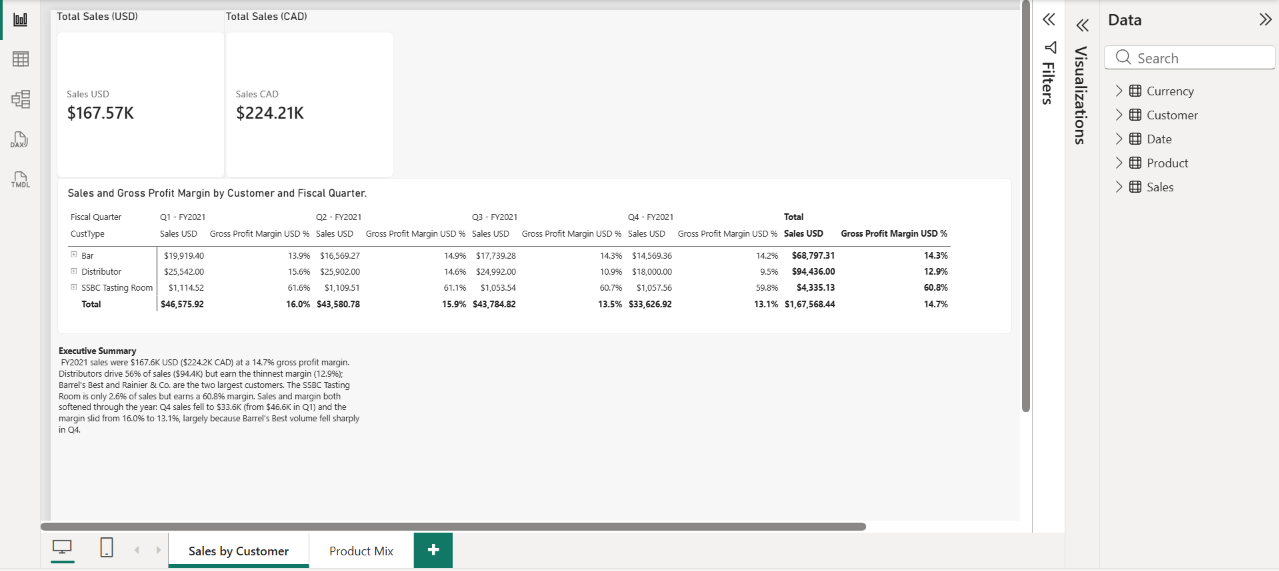

The dashboard page shown, as its layout file describes it:
{"tool":"powerbi","page":{"name":"Sales by Customer","canvas":[1920,1080],"ordinal":0},"visuals":[{"type":"cardVisual","title":"Total Sales (USD)","fields":{"Data":["Sales.Sales USD"]},"box":[10,0,280,280],"z":0},{"type":"cardVisual","title":"Total Sales (CAD)","fields":{"Data":["Sales.Sales CAD"]},"box":[292,0,280,280],"z":1},{"type":"pivotTable","title":"Sales and Gross Profit Margin by Customer and Fiscal Quarter.","fields":{"Columns":["Date.Fiscal Quarter"],"Rows":["Customer.CustType","Customer.Customer"],"Values":["Sales.Sales USD","Sales.Gross Profit Margin USD %"]},"box":[12,280,1590,260],"z":2},{"type":"textbox","box":[1056,0,280,280],"z":3},{"type":"textbox","box":[13.3,558.3,515,260],"z":4}]}

Visuals, with their boxes on the page's 1920x1080 design canvas (x1, y1, x2, y2). These are canvas units, not pixel positions in the 1279x571 screenshot, which may show the page scaled, cropped or inside an application window:
"Total Sales (USD)" cardVisual: Rect(10, 0, 290, 280)
"Total Sales (CAD)" cardVisual: Rect(292, 0, 572, 280)
"Sales and Gross Profit Margin by Customer and Fiscal Quarter." pivotTable: Rect(12, 280, 1602, 540)
textbox: Rect(1056, 0, 1336, 280)
textbox: Rect(13, 558, 528, 818)
